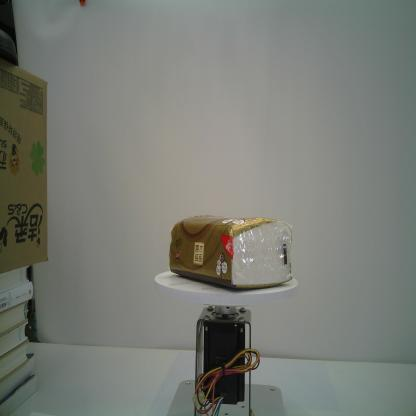Tissue: (168, 214, 294, 290)
